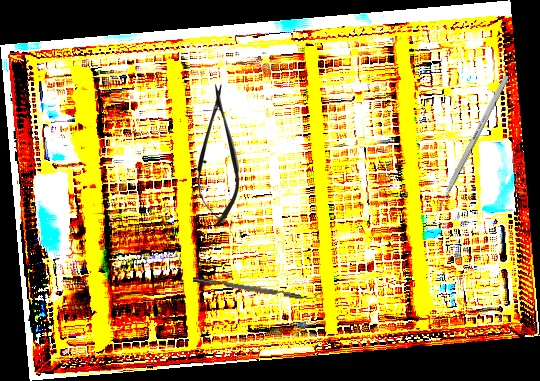Chopper: (192, 270, 319, 304)
Micro Scissor: (197, 84, 239, 226)
Pusher: (428, 74, 510, 226)
